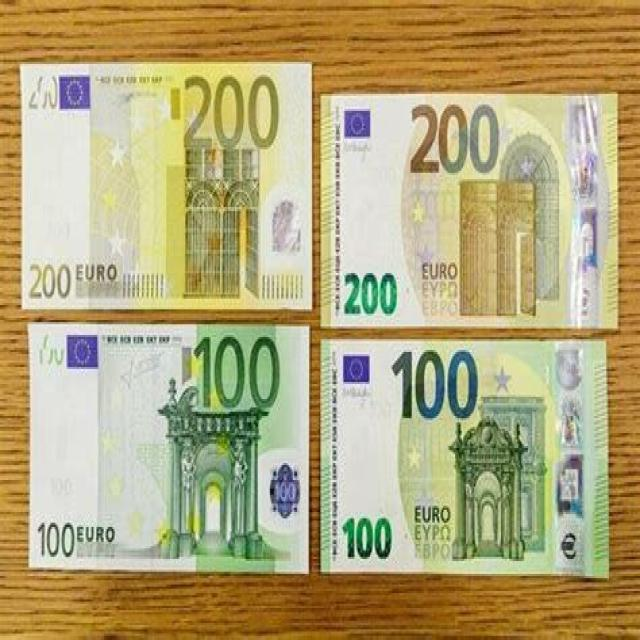banknote: (18, 60, 315, 318), (319, 87, 624, 333), (317, 333, 611, 577), (27, 321, 314, 566), (180, 73, 284, 156), (192, 330, 284, 417), (391, 343, 481, 426), (409, 98, 501, 179), (338, 510, 401, 564), (343, 261, 400, 320), (27, 255, 74, 303), (37, 518, 78, 564), (33, 326, 66, 376), (28, 72, 60, 112)
